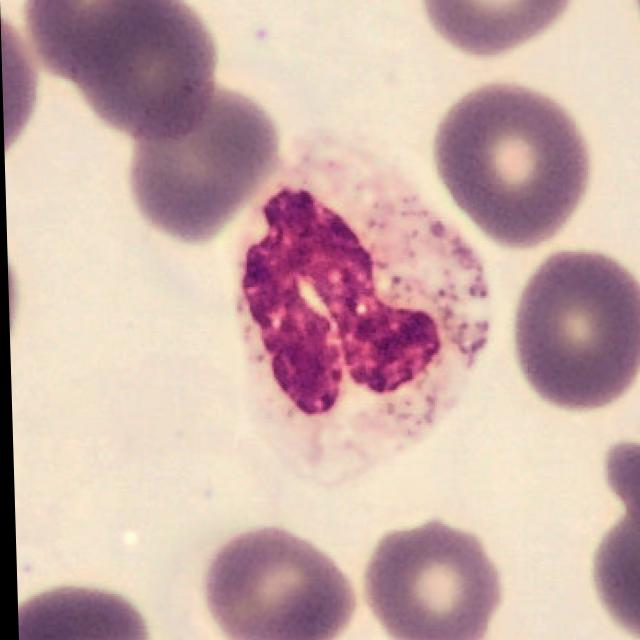Neutrofilo segmentado: (231, 140, 489, 487)
